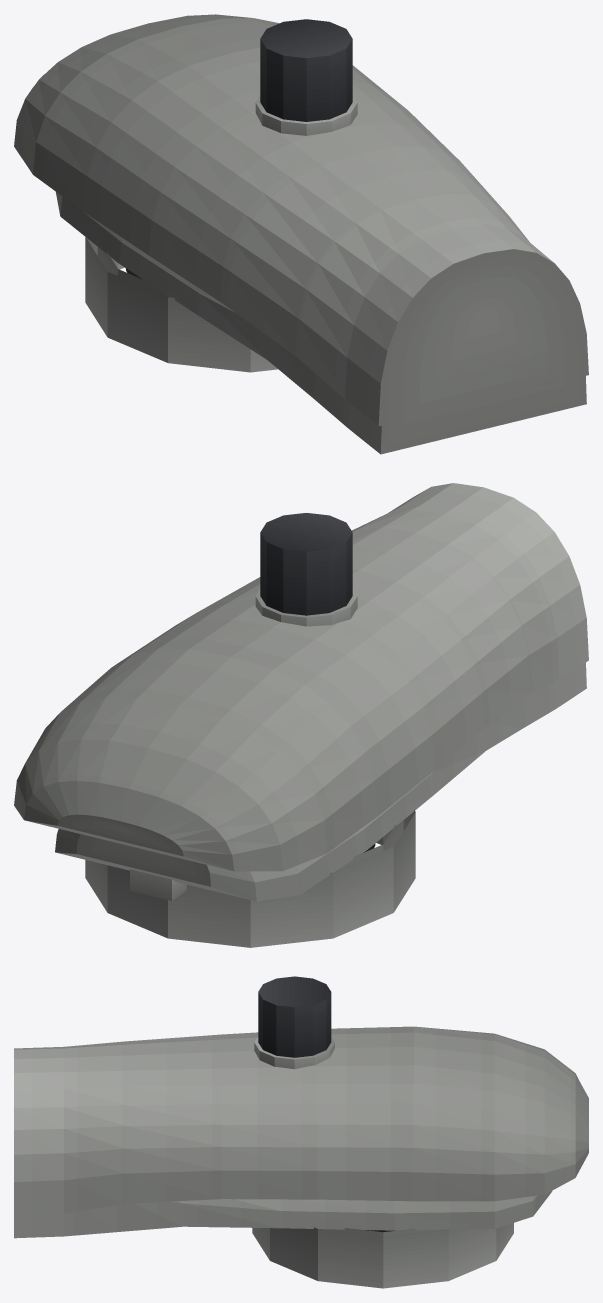
The model's file is streetlight_gem400gs.obj.
3 views of the same model, one above another, from view 1: azimuth 30°, elevation 25°; view 2: azimuth 150°, elevation 25°; view 3: azimuth 270°, elevation 25° (orthographic). The views are drawn at different scales.
Visible parts, largest first — view 1: fixture; view 2: fixture; view 3: fixture.
Boxes of the visible parts, <box> form: fixture: <box>14,14,588,454</box>; fixture: <box>14,483,588,947</box>; fixture: <box>14,976,588,1288</box>.
Bounding box in the file's own units: 0.4375 × 0.5016 × 0.9344.
